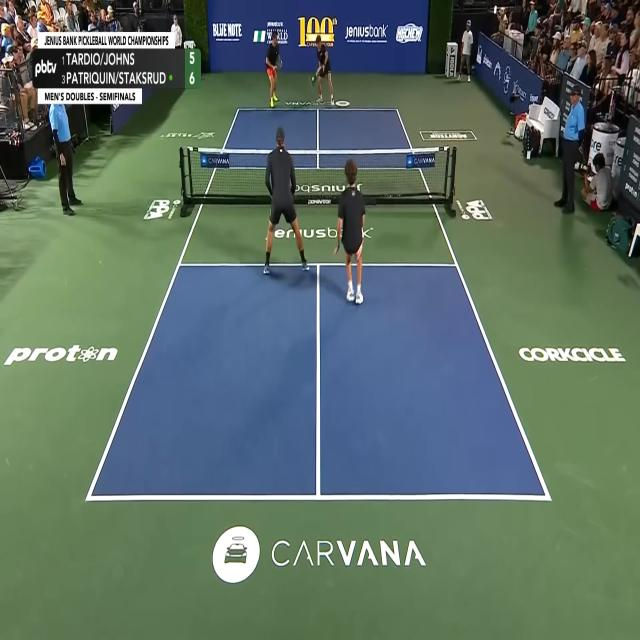ball: (311, 76, 315, 81)
